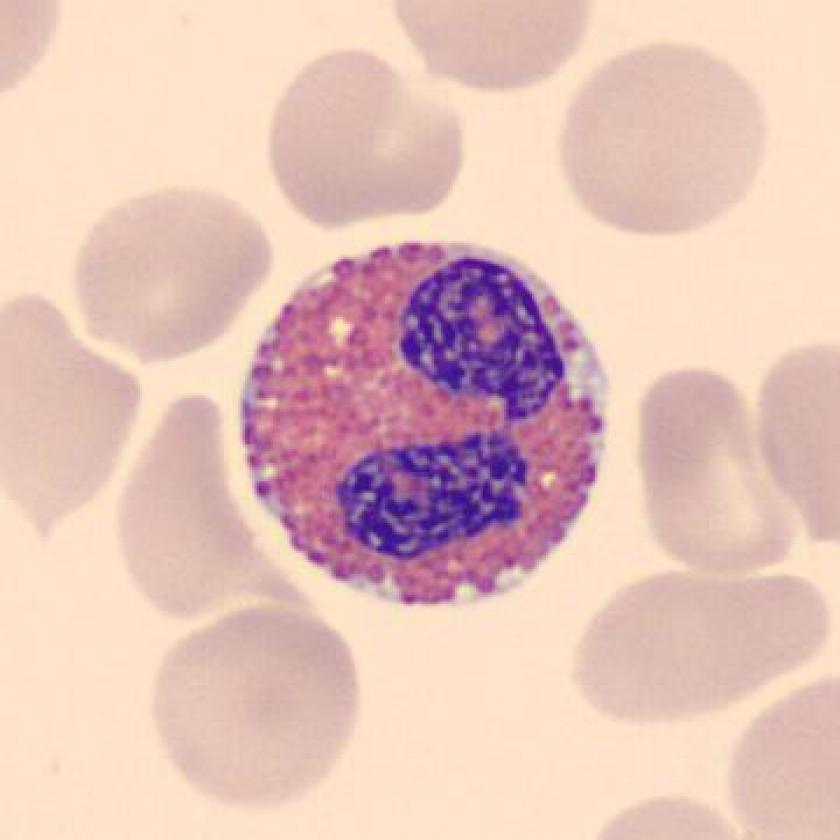eosinophil: (230, 228, 626, 623)
